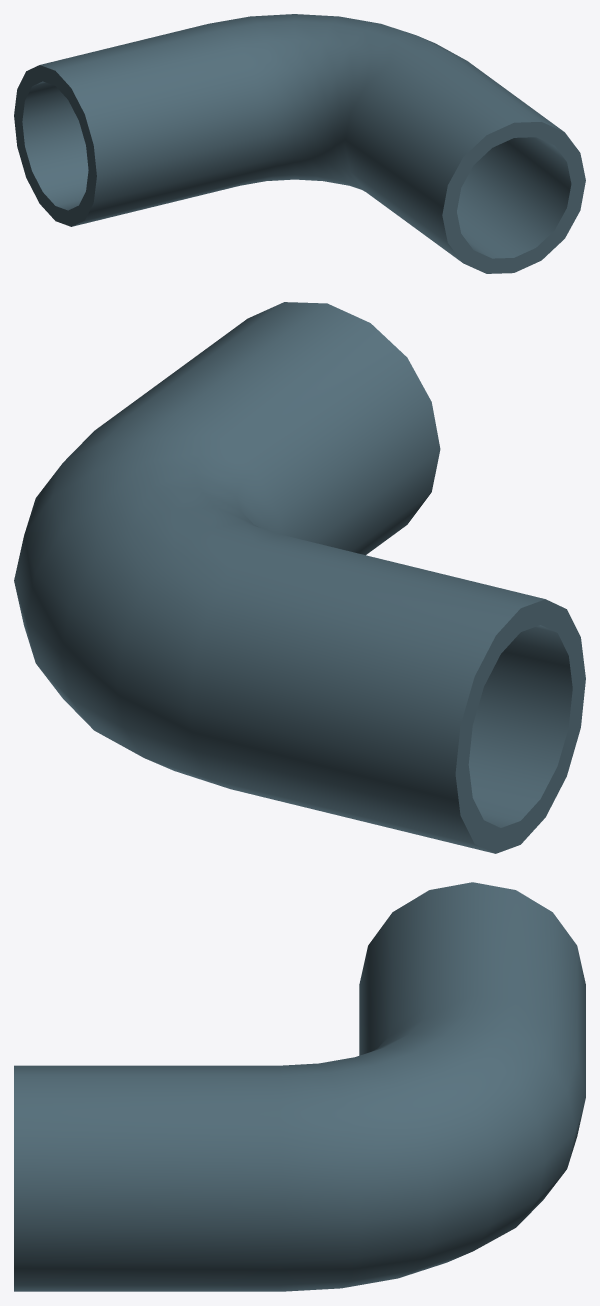
Rendered from pipeglass_006.fbx.
3 renders of one model, top to bottom at view 1: azimuth 30°, elevation 25°; view 2: azimuth 150°, elevation 25°; view 3: azimuth 270°, elevation 25°, orthographic. The views are drawn at different scales.
Visible parts, largest first — view 1: pipeglass_006; view 2: pipeglass_006; view 3: pipeglass_006.
Part boxes in pixels (x1,y1,x2,y2): pipeglass_006: [14, 14, 585, 273]; pipeglass_006: [14, 302, 585, 853]; pipeglass_006: [14, 882, 585, 1291].
Bounding box in the file's own units: 998 × 998 × 395.
